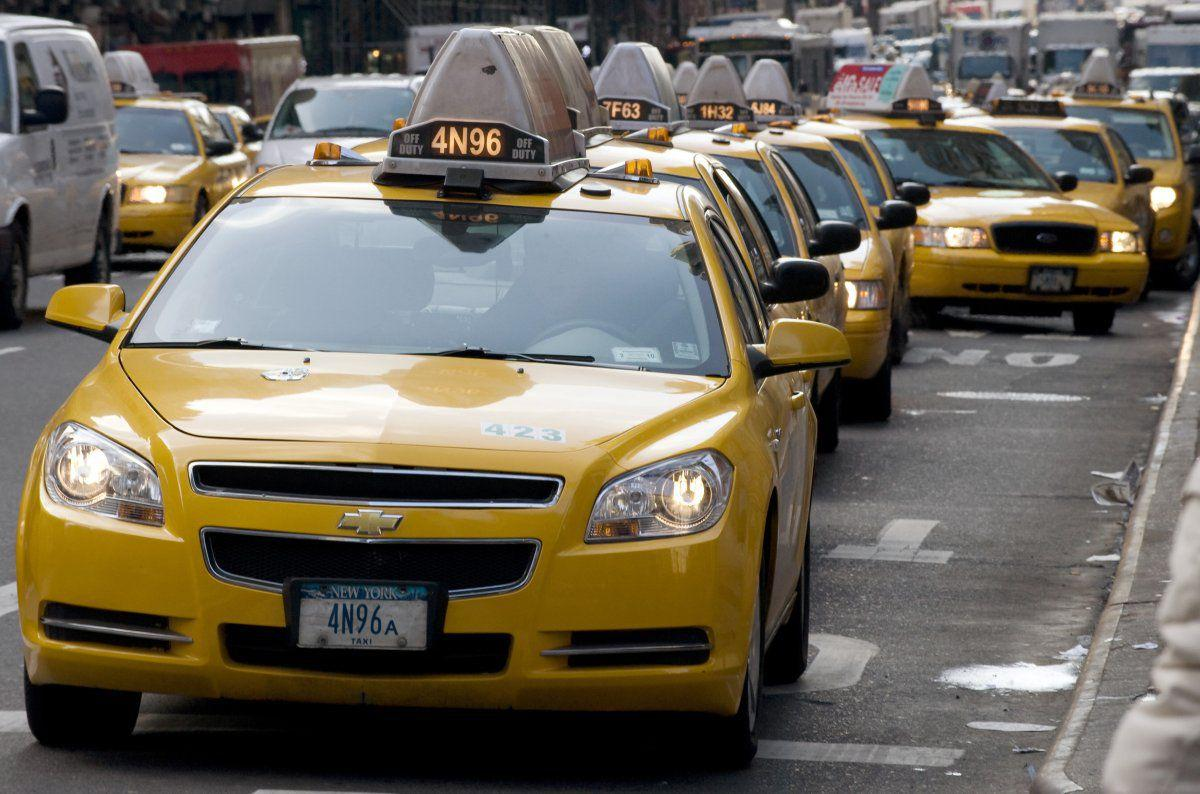taxi: (24, 151, 829, 764)
